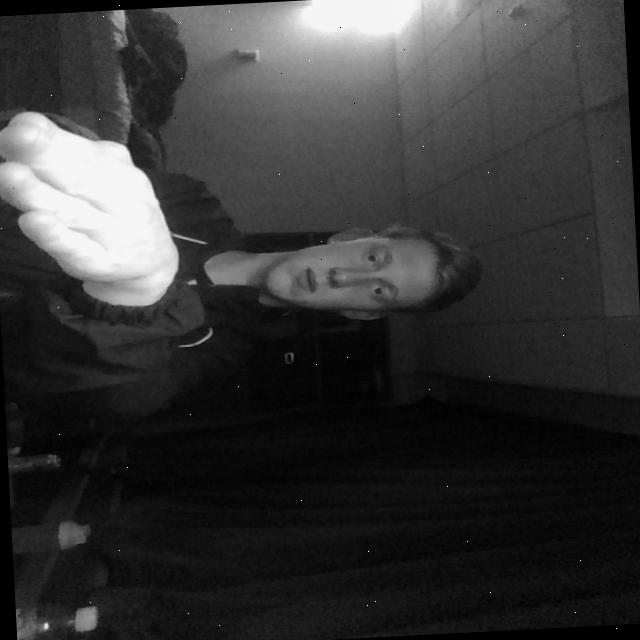paper: (0, 97, 187, 313)
